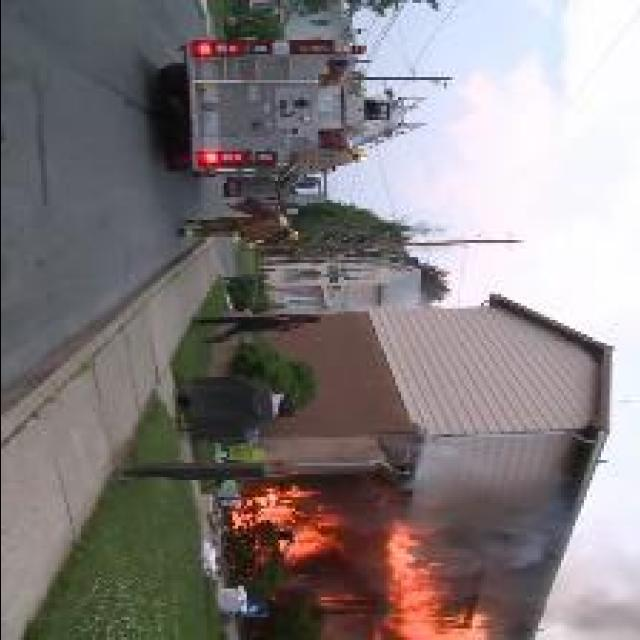Fire: (372, 523, 494, 640), (228, 487, 342, 564)
